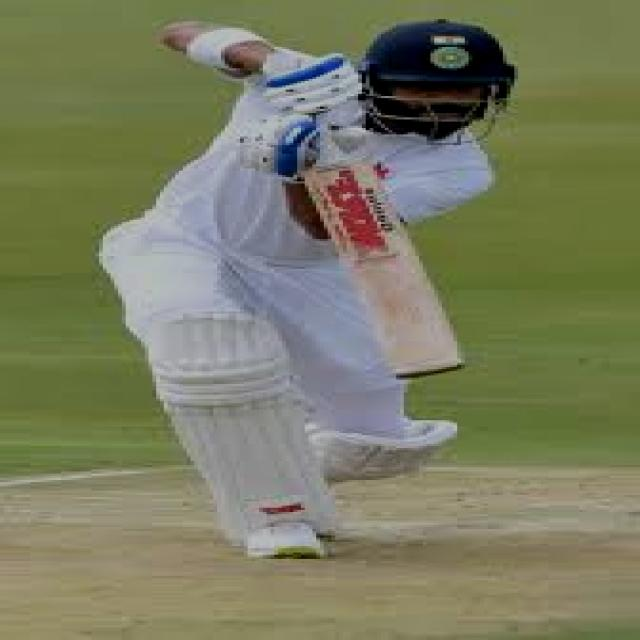toe: (388, 328, 463, 382)
